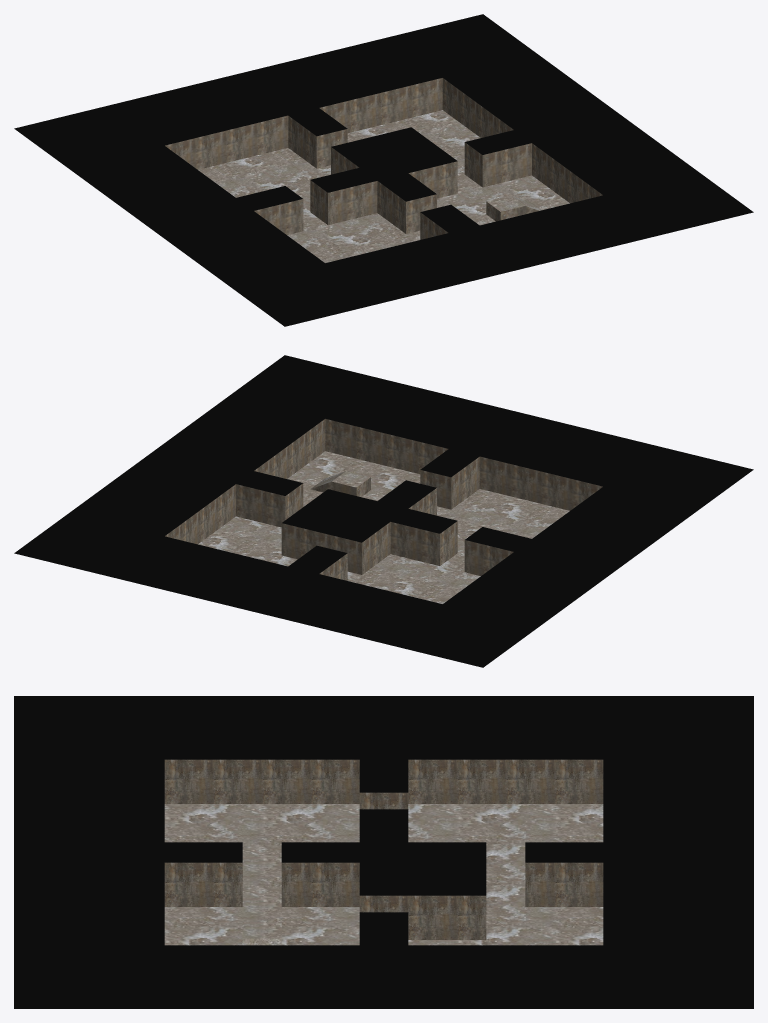
The model's file is vg_lair_battle.glb.
The picture shows the model from 3 angles, top to bottom: view 1: azimuth 30°, elevation 25°; view 2: azimuth 150°, elevation 25°; view 3: azimuth 270°, elevation 25°; orthographic projection. The views are drawn at different scales.
Visible parts, largest first — view 1: room-col; view 2: room-col; view 3: room-col.
Boxes of the visible parts, bbox=[...] form: room-col: bbox=[14, 14, 753, 326]; room-col: bbox=[14, 355, 753, 667]; room-col: bbox=[14, 696, 753, 1008].
Size of what is drawn, in the model's own units: 152 by 10 by 152.
3 materials, 2 textured.
